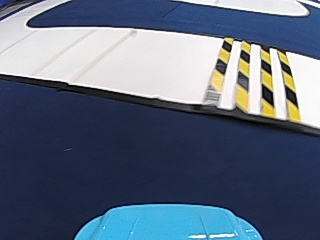bump: (200, 40, 301, 120)
